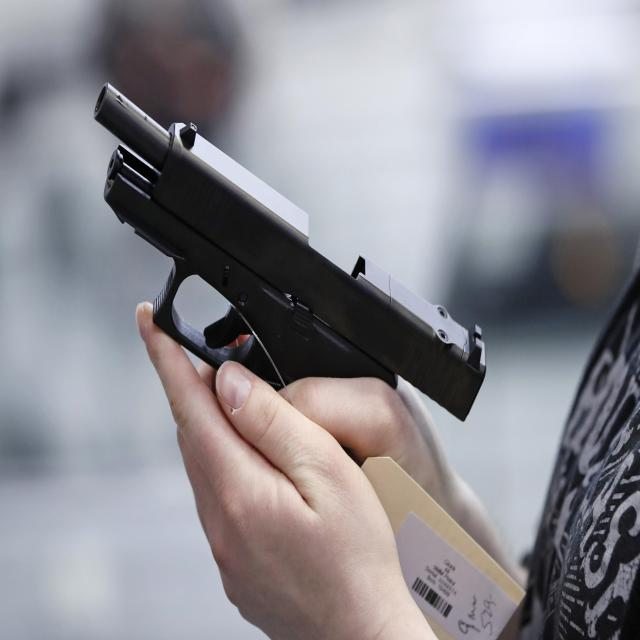Weapon: (93, 84, 486, 420)
